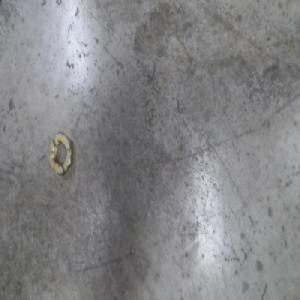Nut: (46, 128, 74, 175)
